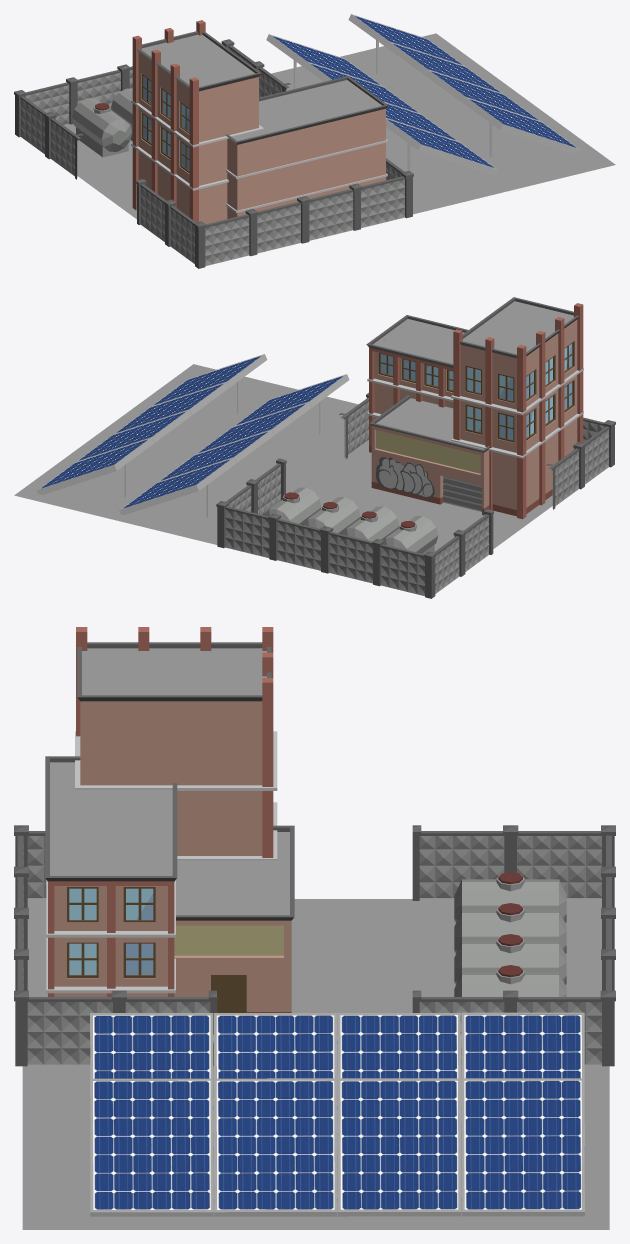
Rendered from solar_panel2.glb.
The picture shows the model from 3 angles, top to bottom: view 1: azimuth 30°, elevation 25°; view 2: azimuth 150°, elevation 25°; view 3: azimuth 270°, elevation 25°; orthographic projection. The views are drawn at different scales.
Visible parts, largest first — view 1: manufacture_010 (1), fence_dark_004 (7), Solar panel (1), Solar panel, fence_dark_004 (4), fence_dark_004 (6), tile_for_home_1x1_007 (37), tile_for_home_1x1_007 (33), tile_for_home_1x1_007 (36), tile_for_home_1x1_007 (35), construction_barrel_001 (5), tile_for_home_1x1_007 (34) (+5 smaller); view 2: manufacture_010 (1), fence_dark_004 (4), Solar panel, Solar panel (1), fence_dark_004 (5), tile_for_home_1x1_007 (35), tile_for_home_1x1_007 (31), tile_for_home_1x1_007 (37), tile_for_home_1x1_007 (32), tile_for_home_1x1_007 (36), fence_dark_004 (7), tile_for_home_1x1_007 (18) (+7 smaller); view 3: manufacture_010 (1), Solar panel (1), Solar panel, fence_dark_004 (4), tile_for_home_1x1_007 (34), fence_dark_004 (6), tile_for_home_1x1_007 (37), tile_for_home_1x1_007 (19), fence_dark_004 (5), tile_for_home_1x1_007 (33), tile_for_home_1x1_007 (35), tile_for_home_1x1_007 (18) (+9 smaller).
Boxes of the visible parts, x1=… form: manufacture_010 (1): x1=131, y1=20, x2=388, y2=224; fence_dark_004 (7): x1=136, y1=179, x2=306, y2=268; Solar panel (1): x1=348, y1=14, x2=580, y2=156; Solar panel: x1=266, y1=34, x2=497, y2=174; fence_dark_004 (4): x1=14, y1=65, x2=126, y2=179; fence_dark_004 (6): x1=302, y1=158, x2=413, y2=242; tile_for_home_1x1_007 (37): x1=463, y1=121, x2=615, y2=190; tile_for_home_1x1_007 (33): x1=391, y1=153, x2=511, y2=214; tile_for_home_1x1_007 (36): x1=403, y1=77, x2=555, y2=143; tile_for_home_1x1_007 (35): x1=340, y1=33, x2=495, y2=99; construction_barrel_001 (5): x1=72, y1=98, x2=132, y2=157; tile_for_home_1x1_007 (34): x1=81, y1=166, x2=136, y2=219; manufacture_010 (1): x1=366, y1=297, x2=583, y2=519; fence_dark_004 (4): x1=324, y1=509, x2=493, y2=598; Solar panel: x1=119, y1=374, x2=349, y2=517; Solar panel (1): x1=37, y1=354, x2=267, y2=497; fence_dark_004 (5): x1=216, y1=458, x2=328, y2=572; tile_for_home_1x1_007 (35): x1=14, y1=452, x2=166, y2=520; tile_for_home_1x1_007 (31): x1=118, y1=485, x2=238, y2=544; tile_for_home_1x1_007 (37): x1=134, y1=364, x2=296, y2=430; tile_for_home_1x1_007 (32): x1=209, y1=440, x2=340, y2=493; tile_for_home_1x1_007 (36): x1=74, y1=408, x2=226, y2=474; fence_dark_004 (7): x1=546, y1=417, x2=615, y2=509; tile_for_home_1x1_007 (18): x1=301, y1=458, x2=421, y2=518; manufacture_010 (1): x1=45, y1=627, x2=294, y2=1012; Solar panel (1): x1=90, y1=1078, x2=584, y2=1216; Solar panel: x1=90, y1=1012, x2=584, y2=1150; fence_dark_004 (4): x1=412, y1=825, x2=615, y2=911; tile_for_home_1x1_007 (34): x1=291, y1=899, x2=413, y2=981; fence_dark_004 (6): x1=14, y1=910, x2=217, y2=1066; tile_for_home_1x1_007 (37): x1=22, y1=1147, x2=218, y2=1229; tile_for_home_1x1_007 (19): x1=414, y1=899, x2=601, y2=981; fence_dark_004 (5): x1=412, y1=910, x2=615, y2=1066; tile_for_home_1x1_007 (33): x1=22, y1=1064, x2=213, y2=1146; tile_for_home_1x1_007 (35): x1=414, y1=1147, x2=609, y2=1229; tile_for_home_1x1_007 (18): x1=291, y1=981, x2=413, y2=1064.
Bounding box in the file's own units: 32.39 × 13.51 × 24.62.
Materials: 2 (2 with a texture image).
